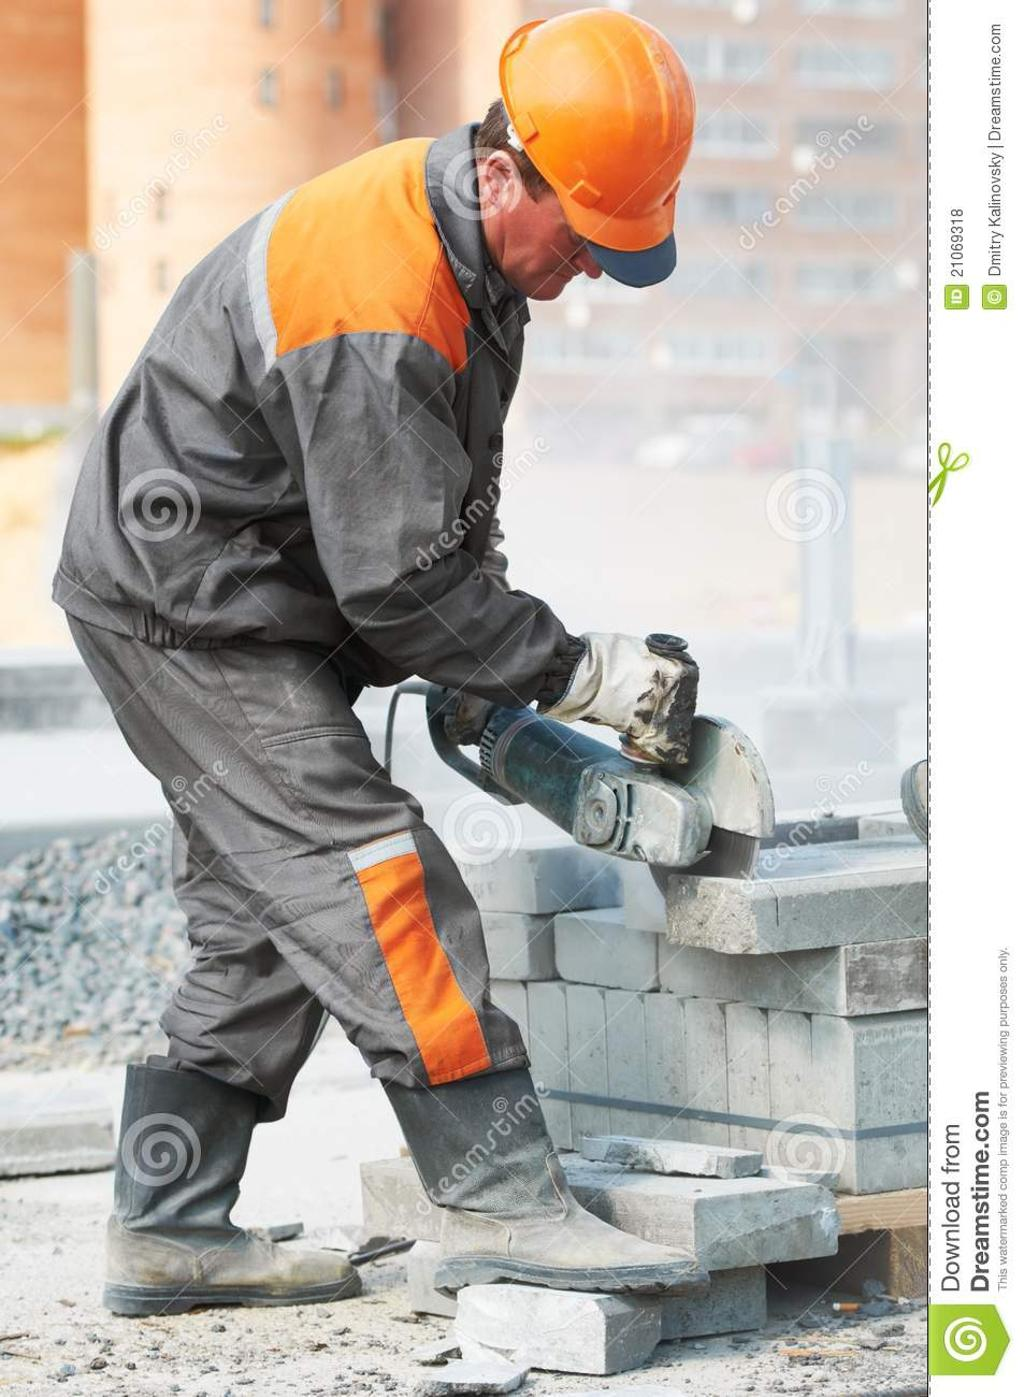face: (541, 145, 656, 309)
